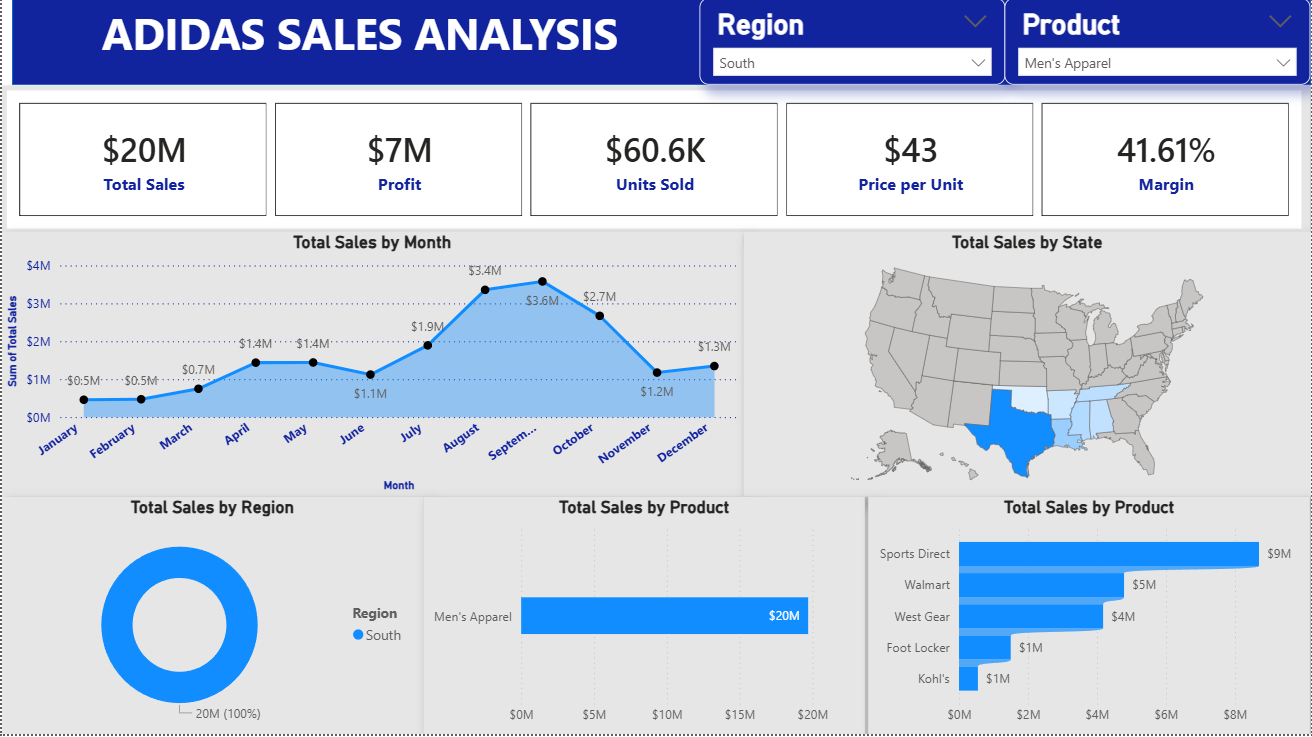

The dashboard page shown, as its layout file describes it:
{"tool":"powerbi","page":{"name":"Page 1","canvas":[1280,720],"ordinal":0},"visuals":[{"type":"shape","box":[9.6,0,1270.7,85.1],"z":0},{"type":"textbox","box":[9.6,0,680.6,70],"z":1000},{"type":"cardVisual","fields":{"Data":["Sum(Data Sales Adidas.Total Sales)","Sum(Data Sales Adidas.Operating Profit)","Sum(Data Sales Adidas.Units Sold)","Data Sales Adidas.Average price","Avg(Data Sales Adidas.Operating Margin)"]},"box":[0,85.1,1280.3,145.5],"z":2000},{"type":"areaChart","title":"Total Sales by Month","fields":{"Category":["Data Sales Adidas.Invoice Date.Variation.Date Hierarchy.Month"],"Y":["Sum(Data Sales Adidas.Total Sales)"]},"box":[0,229.2,724.5,259.3],"z":3000},{"type":"shapeMap","title":"Total Sales by State","fields":{"Category":["Data Sales Adidas.State"],"Value":["Sum(Data Sales Adidas.Total Sales)"]},"box":[724.5,229.2,555.7,259.3],"z":4000},{"type":"donutChart","title":"Total Sales by Region","fields":{"Y":["Sum(Data Sales Adidas.Total Sales)"],"Category":["Data Sales Adidas.Region"]},"box":[0,488.5,411.7,231.9],"z":5000},{"type":"barChart","title":"Total Sales by Product","fields":{"Y":["Sum(Data Sales Adidas.Total Sales)"],"Category":["Data Sales Adidas.Product"]},"box":[411.7,488.5,432.2,231.9],"z":6000},{"type":"barChart","title":"Total Sales by Product","fields":{"Y":["Sum(Data Sales Adidas.Total Sales)"],"Category":["Data Sales Adidas.Retailer"]},"box":[848,488.5,432.2,231.9],"z":7000},{"type":"slicer","fields":{"Values":["Data Sales Adidas.Region"]},"box":[682,0,299.1,85.1],"z":8000},{"type":"slicer","fields":{"Values":["Data Sales Adidas.Product"]},"box":[981.1,0,299.1,85.1],"z":9000}]}

Visuals, with their boxes in screenshot pixels (x1, y1, x2, y2), scaled from the page's 1280x720 canvas onto the 1312x737 screenshot:
shape: 10 0 1311 87
textbox: 10 0 707 72
cardVisual - Sum(Data Sales Adidas.Total Sales) x Sum(Data Sales Adidas.Operating Profit): 0 87 1311 236
"Total Sales by Month" areaChart: 0 235 743 500
"Total Sales by State" shapeMap: 743 235 1311 500
"Total Sales by Region" donutChart: 0 500 422 736
"Total Sales by Product" barChart: 422 500 865 736
"Total Sales by Product" barChart: 869 500 1311 736
slicer - Data Sales Adidas.Region: 699 0 1006 87
slicer - Data Sales Adidas.Product: 1006 0 1311 87
